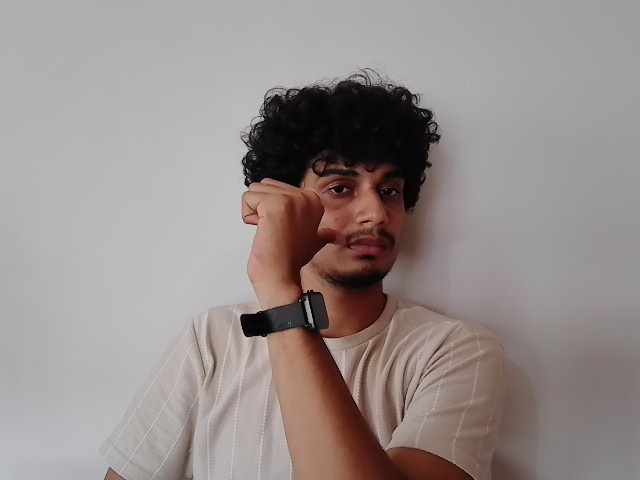drink: (239, 157, 420, 298)
